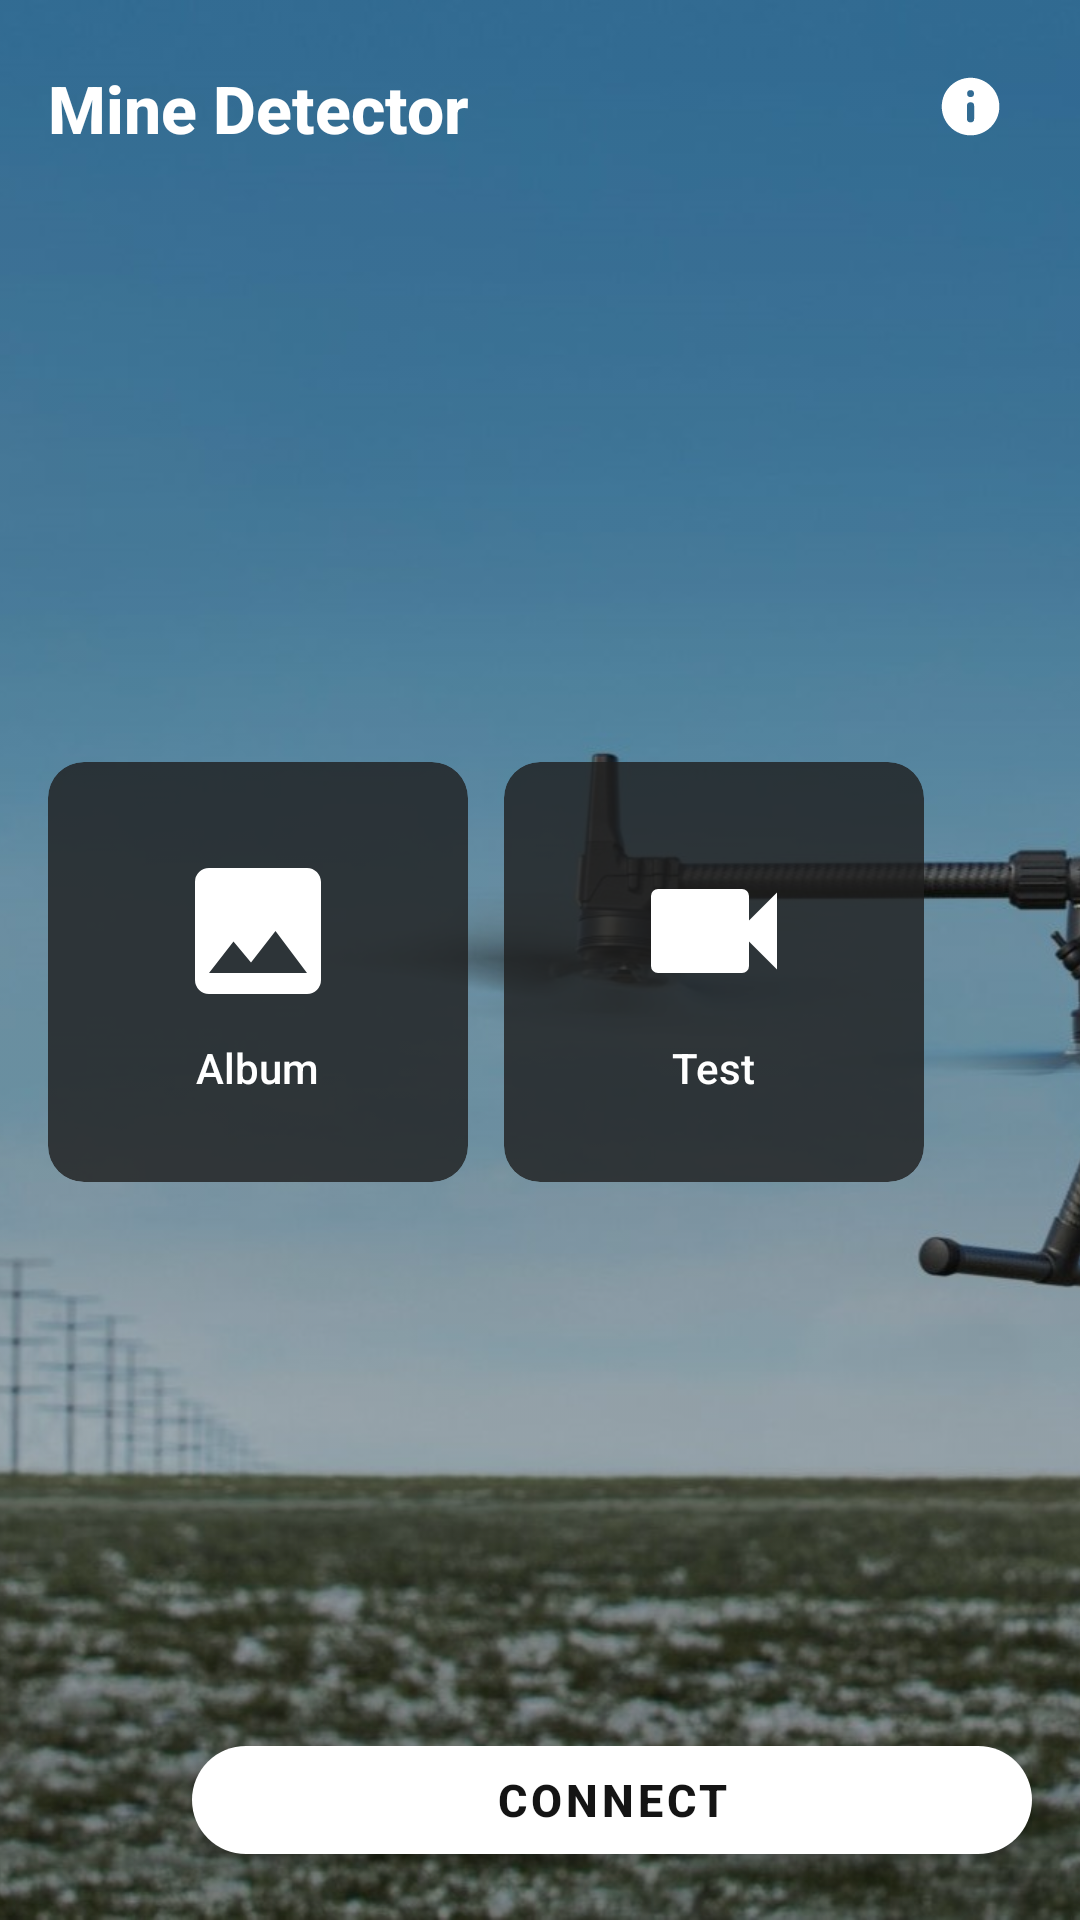

Icon click points for this 1080px x 1920px phone screenshot, format [x,y]:
About: [970,106]
gallery: [258,931]
